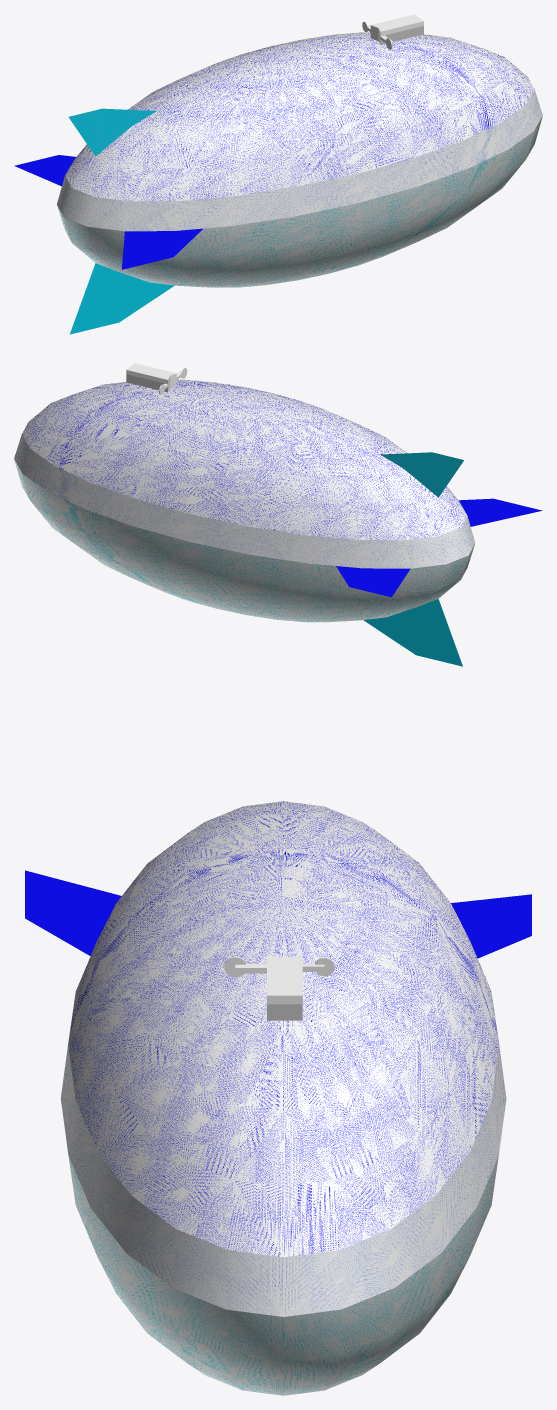
Rendered from blimp-small.dae.
3 views of the same model, one above another, from view 1: azimuth 30°, elevation 25°; view 2: azimuth 150°, elevation 25°; view 3: azimuth 270°, elevation 25° (orthographic). The views are drawn at different scales.
Parts seen in each view (by area): view 1: SketchUp, SketchUp_002, SketchUp_001, SketchUp_010, SketchUp_013, SketchUp_009, SketchUp_011, SketchUp_003; view 2: SketchUp, SketchUp_002, SketchUp_001, SketchUp_010, SketchUp_009, SketchUp_011, SketchUp_013, SketchUp_003; view 3: SketchUp, SketchUp_001, SketchUp_002, SketchUp_013, SketchUp_011, SketchUp_003.
Boxes of the visible parts, left/top/right/bottom form: SketchUp: left=65, top=32, right=534, bottom=201; SketchUp_002: left=57, top=116, right=542, bottom=287; SketchUp_001: left=57, top=89, right=542, bottom=231; SketchUp_010: left=69, top=263, right=174, bottom=334; SketchUp_013: left=121, top=228, right=202, bottom=269; SketchUp_009: left=68, top=108, right=156, bottom=156; SketchUp_011: left=14, top=155, right=75, bottom=186; SketchUp_003: left=365, top=14, right=423, bottom=44; SketchUp: left=22, top=379, right=467, bottom=540; SketchUp_002: left=14, top=459, right=474, bottom=622; SketchUp_001: left=14, top=434, right=475, bottom=568; SketchUp_010: left=363, top=599, right=462, bottom=666; SketchUp_009: left=380, top=452, right=463, bottom=497; SketchUp_011: left=336, top=566, right=410, bottom=597; SketchUp_013: left=460, top=498, right=542, bottom=526; SketchUp_003: left=126, top=363, right=184, bottom=391; SketchUp: left=68, top=801, right=498, bottom=1257; SketchUp_001: left=60, top=997, right=506, bottom=1316; SketchUp_002: left=68, top=1155, right=498, bottom=1395; SketchUp_013: left=25, top=870, right=121, bottom=955; SketchUp_011: left=451, top=894, right=531, bottom=958; SketchUp_003: left=235, top=955, right=324, bottom=1004.
Bounding box in the file's own units: 0.1942 × 0.0932 × 0.089.
